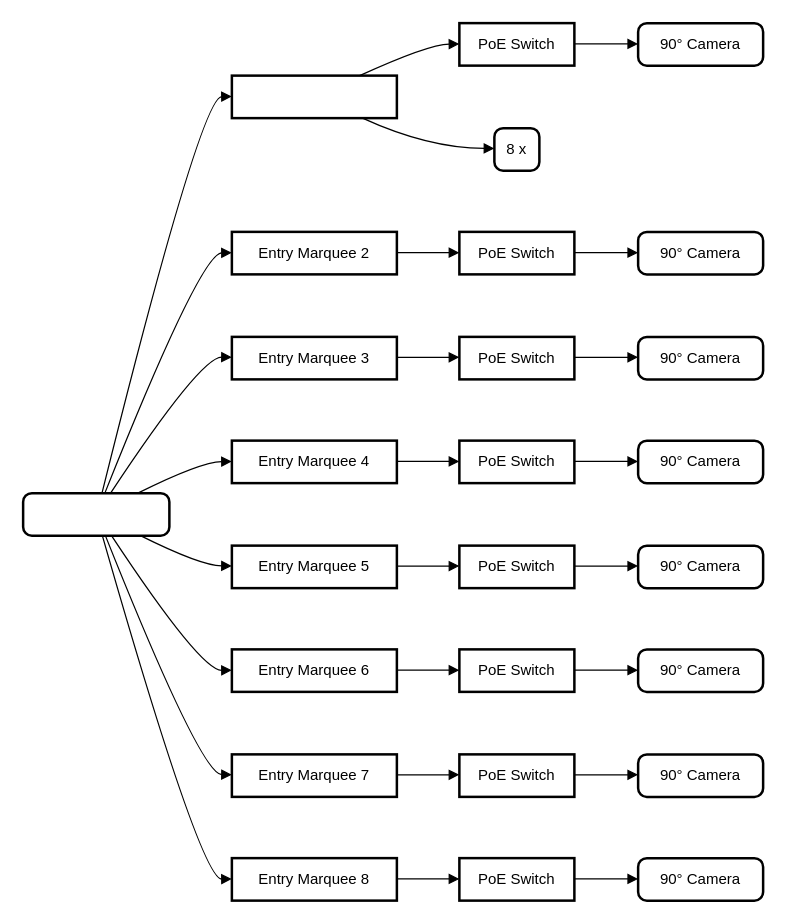
The diagram is 785 pixels wide and 923 high, and some of its shapes have lost their labels. The centre of each missing label's shape, as x and y in pixels:
"Entry Marquee 1" belongs at pixel 314 96.
"Footfall Count" belongs at pixel 95 513.
